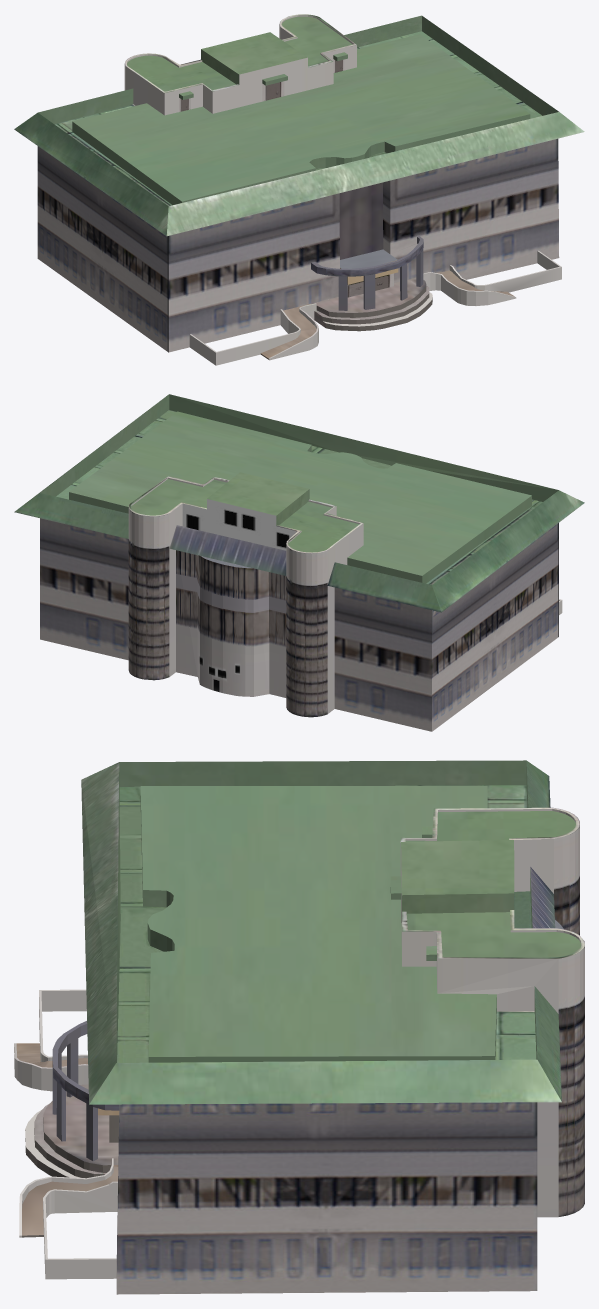
File: ICJ0014.glb
3 views of the same model, one above another, from view 1: azimuth 30°, elevation 25°; view 2: azimuth 150°, elevation 25°; view 3: azimuth 270°, elevation 25° (orthographic). The views are drawn at different scales.
Visible parts, largest first — view 1: MainBuilding; view 2: MainBuilding; view 3: MainBuilding.
Part boxes in pixels (x1,y1,x2,y2): MainBuilding: [14, 14, 584, 365]; MainBuilding: [14, 394, 584, 731]; MainBuilding: [14, 760, 584, 1294].
Bounding box in the file's own units: 4.58 × 1.79 × 3.36.
1 material, 1 textured.
